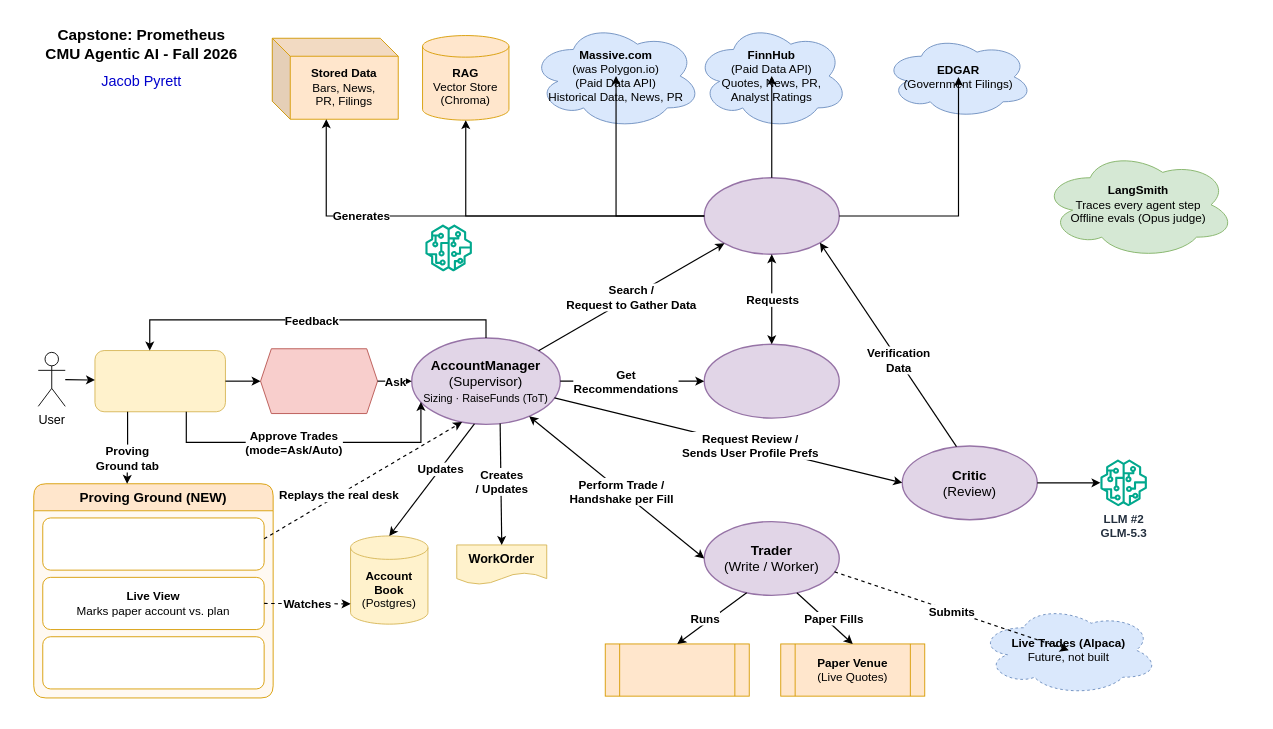
Some shapes in this 1273 by 729 pixel diagram are drawn without their labels. Here are the shapes that lost their labels. From the top down, the box of each, then its label:
(703, 177, 840, 255): DataClerk (Data Analyst)
(425, 224, 472, 271): LLM #1 GPT-OSS-120B
(94, 350, 225, 412): App ("Prometheus") Web UI + CLI
(260, 348, 378, 414): Security Guard Rules + Guard LLM (Qwen)
(703, 343, 840, 418): Advisor (Researcher)
(42, 517, 264, 570): Time Machine Backtest on past decision days
(42, 636, 264, 689): Track Record Scores saved sessions + Critic
(604, 643, 749, 696): Backtest Venue (Simulator)
